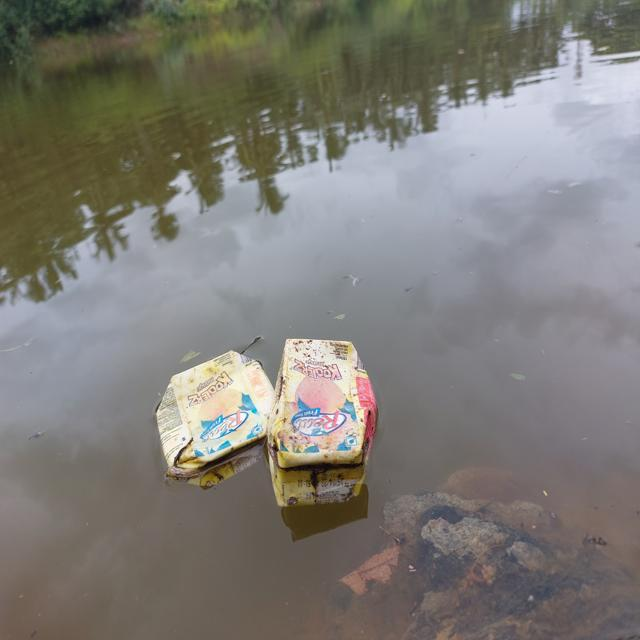paper: (148, 343, 281, 487), (270, 335, 376, 487)
